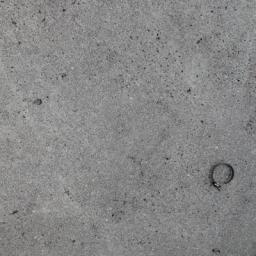FOD: (208, 160, 238, 192)
